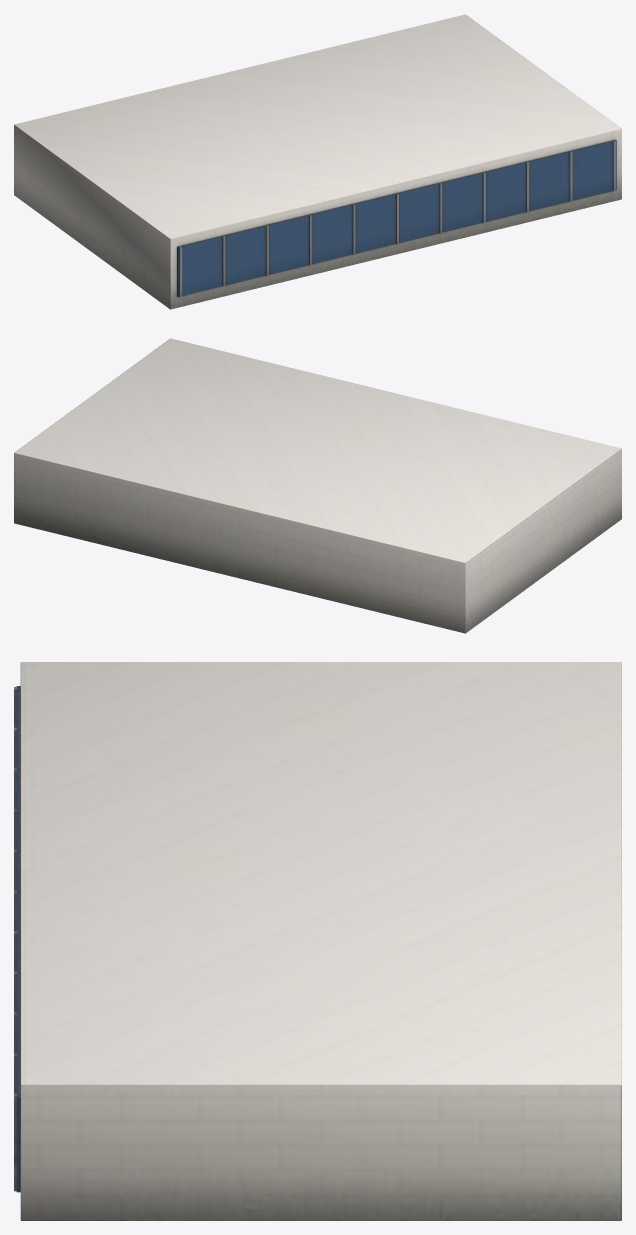
File: planta_cristal.glb
The picture shows the model from 3 angles, top to bottom: view 1: azimuth 30°, elevation 25°; view 2: azimuth 150°, elevation 25°; view 3: azimuth 270°, elevation 25°; orthographic projection. The views are drawn at different scales.
Parts seen in each view (by area): view 1: planta_cristal; view 2: planta_cristal; view 3: planta_cristal.
Part boxes in pixels (x1,y1,x2,y2): planta_cristal: [14, 14, 621, 309]; planta_cristal: [14, 338, 621, 633]; planta_cristal: [14, 662, 621, 1220].
Size of the model in its own units: 20 by 3 by 12.13.
Materials: 1 (1 with a texture image).
